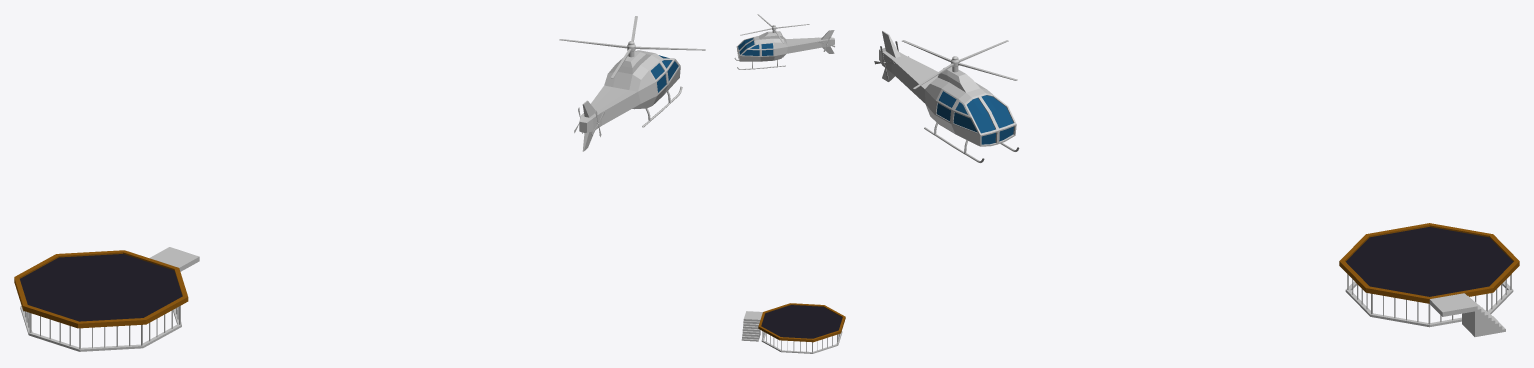
Rendered from copter.obj.
3 renders of one model, left to right at view 1: azimuth 30°, elevation 25°; view 2: azimuth 150°, elevation 25°; view 3: azimuth 270°, elevation 25°, orthographic. The views are drawn at different scales.
Parts seen in each view (by area): view 1: Cylinder.001_Cylinder.012, Helicopter.007_Cylinder.008, Helicopter.001_Cylinder.001; view 2: Cylinder.001_Cylinder.012, Helicopter.007_Cylinder.008, Helicopter.001_Cylinder.001, Cylinder.004; view 3: Cylinder.001_Cylinder.012, Helicopter.007_Cylinder.008, Helicopter.001_Cylinder.001.
Boxes of the visible parts, x1=… form: Cylinder.001_Cylinder.012: x1=14, y1=247, x2=199, y2=351; Helicopter.007_Cylinder.008: x1=579, y1=50, x2=682, y2=151; Helicopter.001_Cylinder.001: x1=559, y1=16, x2=705, y2=78; Cylinder.001_Cylinder.012: x1=741, y1=303, x2=845, y2=353; Helicopter.007_Cylinder.008: x1=734, y1=30, x2=834, y2=69; Helicopter.001_Cylinder.001: x1=740, y1=14, x2=809, y2=43; Cylinder.004: x1=766, y1=333, x2=806, y2=352; Cylinder.001_Cylinder.012: x1=1339, y1=223, x2=1519, y2=336; Helicopter.007_Cylinder.008: x1=879, y1=31, x2=1019, y2=163; Helicopter.001_Cylinder.001: x1=902, y1=40, x2=1017, y2=89.
Size of the model in its own units: 18.92 by 15.68 by 24.25.
